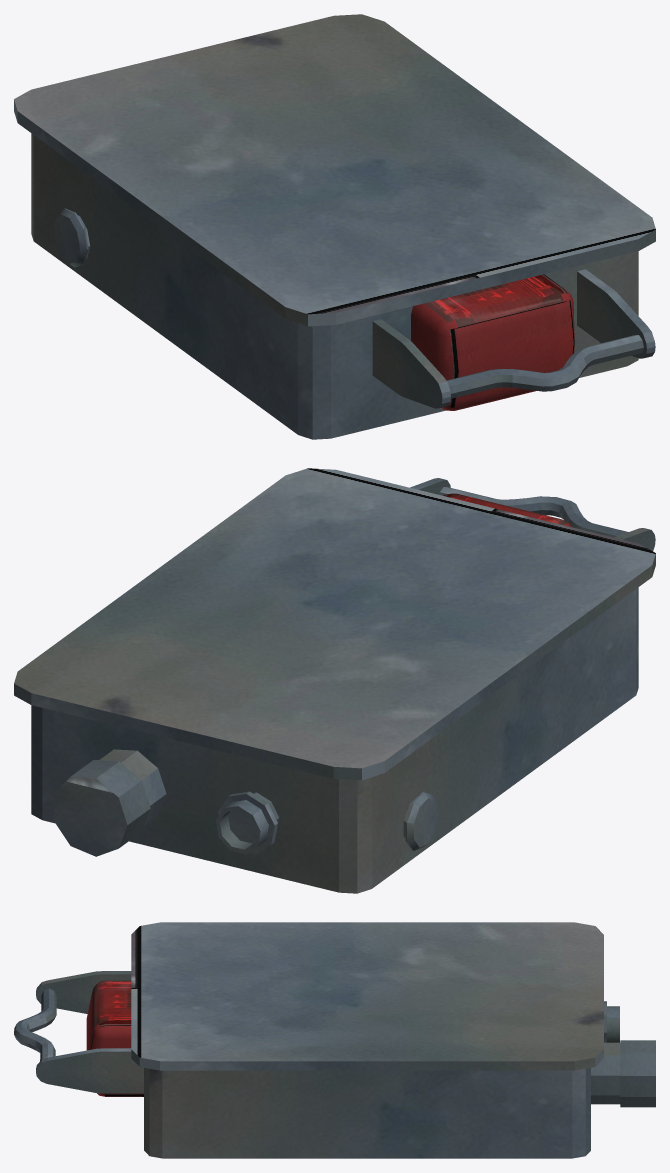
3 views of the same model, one above another, from view 1: azimuth 30°, elevation 25°; view 2: azimuth 150°, elevation 25°; view 3: azimuth 270°, elevation 25° (orthographic). The views are drawn at different scales.
Visible parts, largest first — view 1: E:\mineData\testdata\JiaWanobj\jw.obj_E:\mineData\testdata\j (×3); view 2: E:\mineData\testdata\JiaWanobj\jw.obj_E:\mineData\testdata\j (×3); view 3: E:\mineData\testdata\JiaWanobj\jw.obj_E:\mineData\testdata\j (×3).
Boxes of the visible parts, bbox=[...] form: E:\mineData\testdata\JiaWanobj\jw.obj_E:\mineData\testdata\j (×3): bbox=[14, 14, 655, 439]; E:\mineData\testdata\JiaWanobj\jw.obj_E:\mineData\testdata\j (×3): bbox=[14, 468, 655, 893]; E:\mineData\testdata\JiaWanobj\jw.obj_E:\mineData\testdata\j (×3): bbox=[14, 922, 655, 1158].
Size of the model in its own units: 0.1274 by 0.0448 by 0.2491.
1 material, 1 textured.
